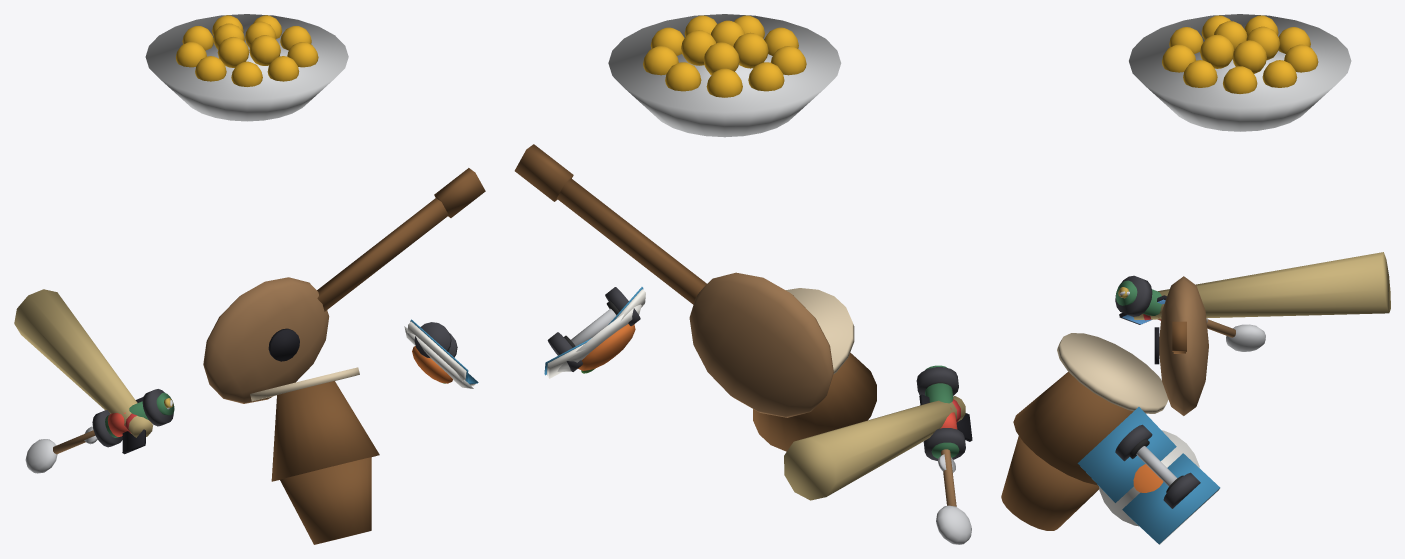
The model's file is awd_props_female.glb.
The picture shows the model from 3 angles, left to right: view 1: azimuth 30°, elevation 25°; view 2: azimuth 150°, elevation 25°; view 3: azimuth 270°, elevation 25°; orthographic projection. The views are drawn at different scales.
Parts seen in each view (by area): view 1: prop_headpan, prop_guitar, prop_drum, prop_broom, prop_ladle, prop_dumbbell_R, prop_plate, prop_bottle, prop_book, prop_dumbbell_L; view 2: prop_headpan, prop_guitar, prop_broom, prop_drum, prop_plate, prop_ladle, prop_dumbbell_L, prop_dumbbell_R, prop_bottle, prop_book; view 3: prop_headpan, prop_drum, prop_broom, prop_book, prop_guitar, prop_dumbbell_L, prop_plate, prop_ladle, prop_dumbbell_R, prop_bottle.
Part boxes in pixels (x1,y1,x2,y2): prop_headpan: [145, 14, 348, 121]; prop_guitar: [203, 168, 485, 403]; prop_drum: [250, 367, 379, 544]; prop_broom: [14, 289, 153, 437]; prop_ladle: [25, 430, 95, 473]; prop_dumbbell_R: [92, 389, 173, 447]; prop_plate: [404, 326, 473, 388]; prop_bottle: [105, 392, 174, 437]; prop_book: [407, 319, 478, 386]; prop_dumbbell_L: [414, 322, 457, 358]; prop_headpan: [608, 14, 841, 137]; prop_guitar: [514, 144, 833, 417]; prop_broom: [784, 396, 965, 500]; prop_drum: [753, 288, 876, 451]; prop_plate: [557, 304, 641, 373]; prop_ladle: [936, 449, 971, 544]; prop_dumbbell_L: [547, 287, 640, 371]; prop_dumbbell_R: [916, 367, 965, 460]; prop_bottle: [925, 365, 959, 458]; prop_book: [544, 287, 645, 378]; prop_headpan: [1129, 14, 1351, 131]; prop_drum: [1001, 333, 1168, 530]; prop_broom: [1133, 252, 1390, 320]; prop_book: [1077, 407, 1220, 544]; prop_guitar: [1154, 276, 1208, 415]; prop_dumbbell_L: [1115, 424, 1200, 508]; prop_plate: [1099, 430, 1199, 526]; prop_ladle: [1207, 319, 1265, 351]; prop_dumbbell_R: [1115, 275, 1152, 316]; prop_bottle: [1116, 280, 1161, 320].
Size of the model in its own units: 1.3 by 1.32 by 0.9447.
